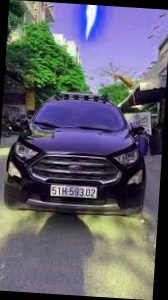Bien-so: (49, 185, 98, 199)
